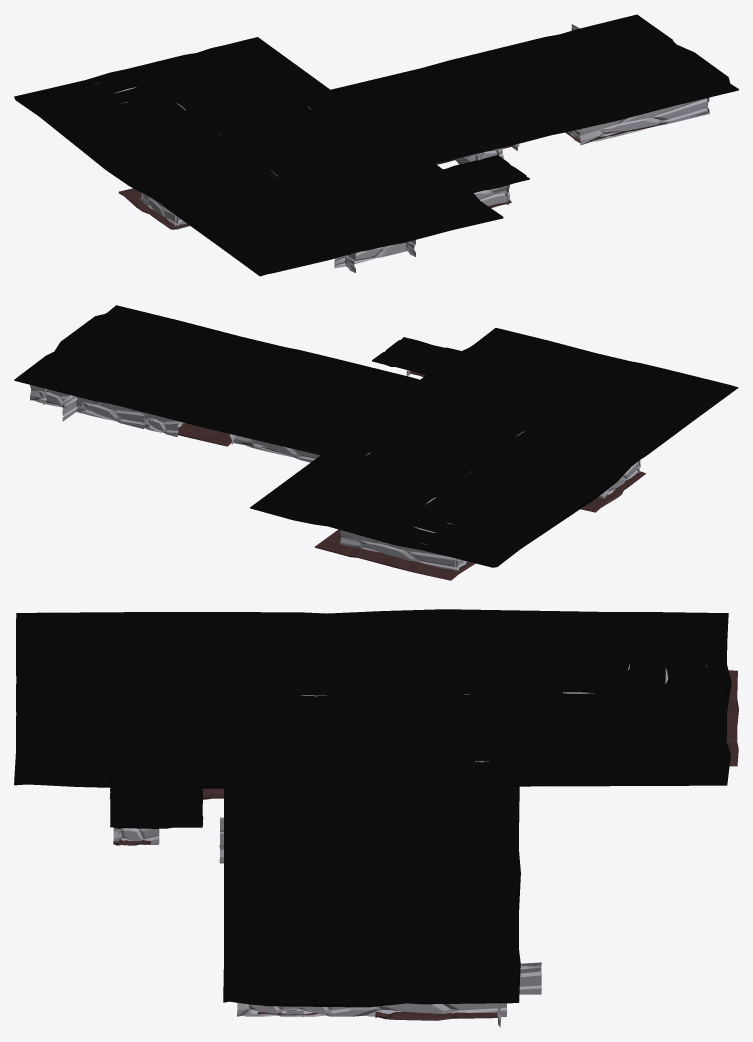
File: Level2BasicLayout6.fbx
The picture shows the model from 3 angles, top to bottom: view 1: azimuth 30°, elevation 25°; view 2: azimuth 150°, elevation 25°; view 3: azimuth 270°, elevation 25°; orthographic projection. The views are drawn at different scales.
Visible parts, largest first — view 1: Plane.073, Plane.072, Plane.061, Plane.074, Plane.037, Plane.032, Plane.017; view 2: Plane.073, Plane.072, Plane.074, Plane.031, Plane.029, Plane.050, Plane.076, Plane.049, Plane.057, Plane.046, Plane.032; view 3: Plane.073, Plane.072, Plane.074, Plane.055, Plane.031, Plane.049, Plane.051, Plane.063.
Boxes of the visible parts, x1,y1,x2,y2 form: Plane.073: (14,37,503,276); Plane.072: (331,14,738,163); Plane.061: (579,98,707,145); Plane.074: (428,155,529,196); Plane.037: (334,242,407,268); Plane.032: (118,188,189,229); Plane.017: (473,184,509,206); Plane.073: (250,328,738,567); Plane.072: (14,305,421,455); Plane.074: (372,337,476,375); Plane.031: (314,529,475,580); Plane.029: (339,530,459,570); Plane.050: (76,396,144,428); Plane.076: (234,435,319,462); Plane.049: (42,400,231,446); Plane.057: (30,385,82,412); Plane.046: (142,412,178,437); Plane.032: (580,471,646,512); Plane.073: (14,609,731,788); Plane.072: (223,782,520,1007); Plane.074: (110,774,203,828); Plane.055: (350,1003,507,1016); Plane.031: (726,670,738,766); Plane.049: (375,1011,500,1020); Plane.051: (519,962,541,994); Plane.063: (237,1002,303,1016).
Bounding box in the file's own units: 5476 × 231 × 4220.
